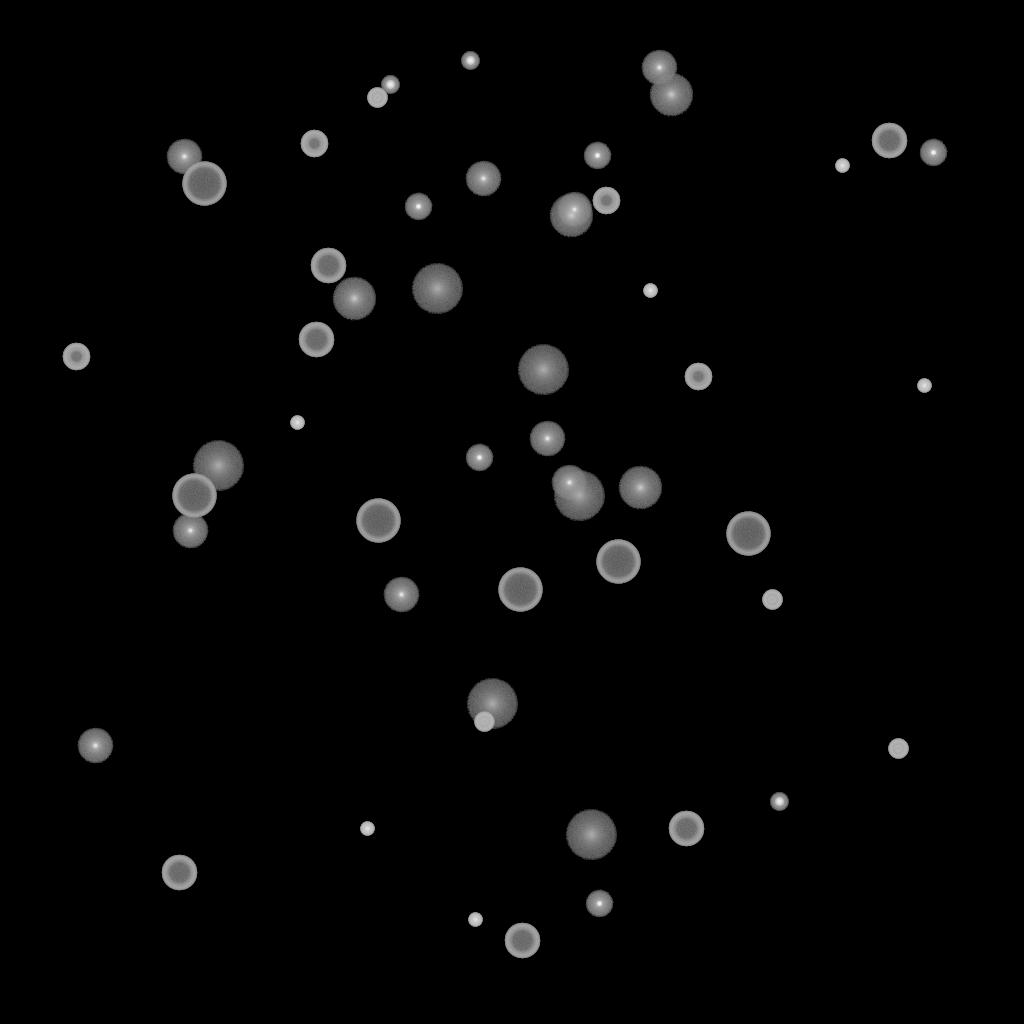depth:-10: (465, 444, 493, 472), (404, 193, 432, 221), (919, 139, 947, 167), (583, 142, 611, 170), (585, 890, 613, 918)
depth:-20: (381, 76, 399, 94), (770, 793, 788, 811), (461, 52, 479, 70)
depth:-30: (468, 913, 482, 927), (643, 284, 657, 298), (917, 379, 931, 393), (360, 822, 374, 836), (290, 416, 304, 430), (835, 159, 849, 173)
depth:-40: (367, 88, 387, 108), (888, 739, 908, 759), (762, 590, 782, 610), (474, 712, 494, 732)
depth:-50: (592, 187, 620, 215), (300, 130, 328, 158), (684, 363, 712, 391), (62, 343, 90, 371)
depth:-60: (504, 923, 540, 959), (161, 855, 197, 891), (298, 322, 334, 358), (668, 811, 704, 847), (871, 123, 907, 159), (310, 248, 346, 284)
depth:-70: (596, 540, 640, 584), (726, 512, 770, 556), (356, 499, 400, 543), (182, 162, 226, 206), (172, 474, 216, 518), (498, 568, 542, 612)
depth:0: (166, 139, 202, 175), (77, 728, 113, 764), (172, 513, 208, 549), (465, 161, 501, 197), (556, 192, 592, 228), (383, 577, 419, 613), (529, 421, 565, 457), (641, 50, 677, 86), (551, 465, 587, 501)
depth:10: (549, 194, 593, 238), (618, 466, 662, 510), (649, 73, 693, 117), (332, 277, 376, 321)
depth:20: (411, 264, 463, 314), (192, 441, 244, 491), (565, 810, 617, 860), (517, 345, 569, 395), (466, 679, 518, 729), (553, 471, 605, 521)
